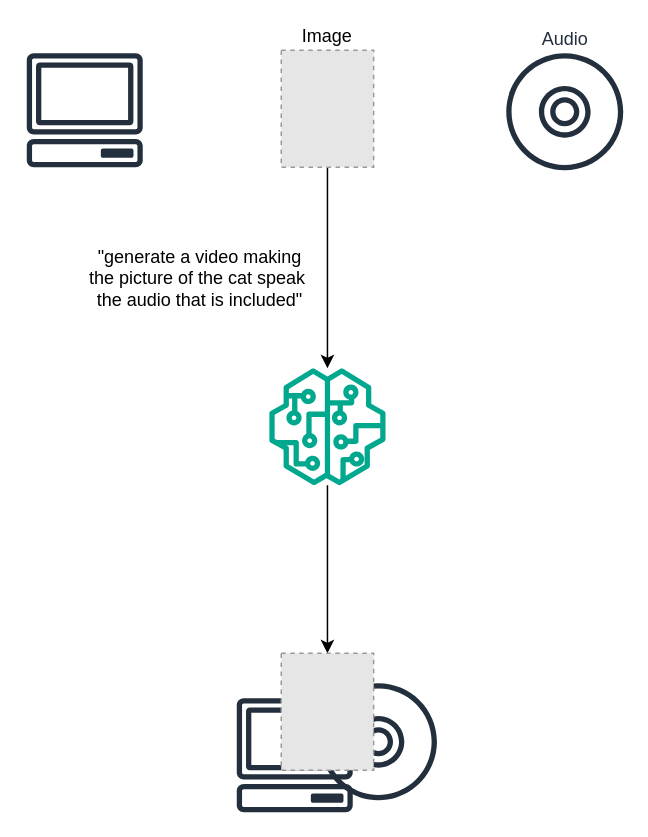
Some shapes in this 648 by 837 pixel diagram are drawn without their labels. Grey dashed boxes stand in for pictures. Each missing label, with the centre of its shape:
"Multi-modal Model" belongs at pixel 326 426.
"Prompt" belongs at pixel 84 109.
